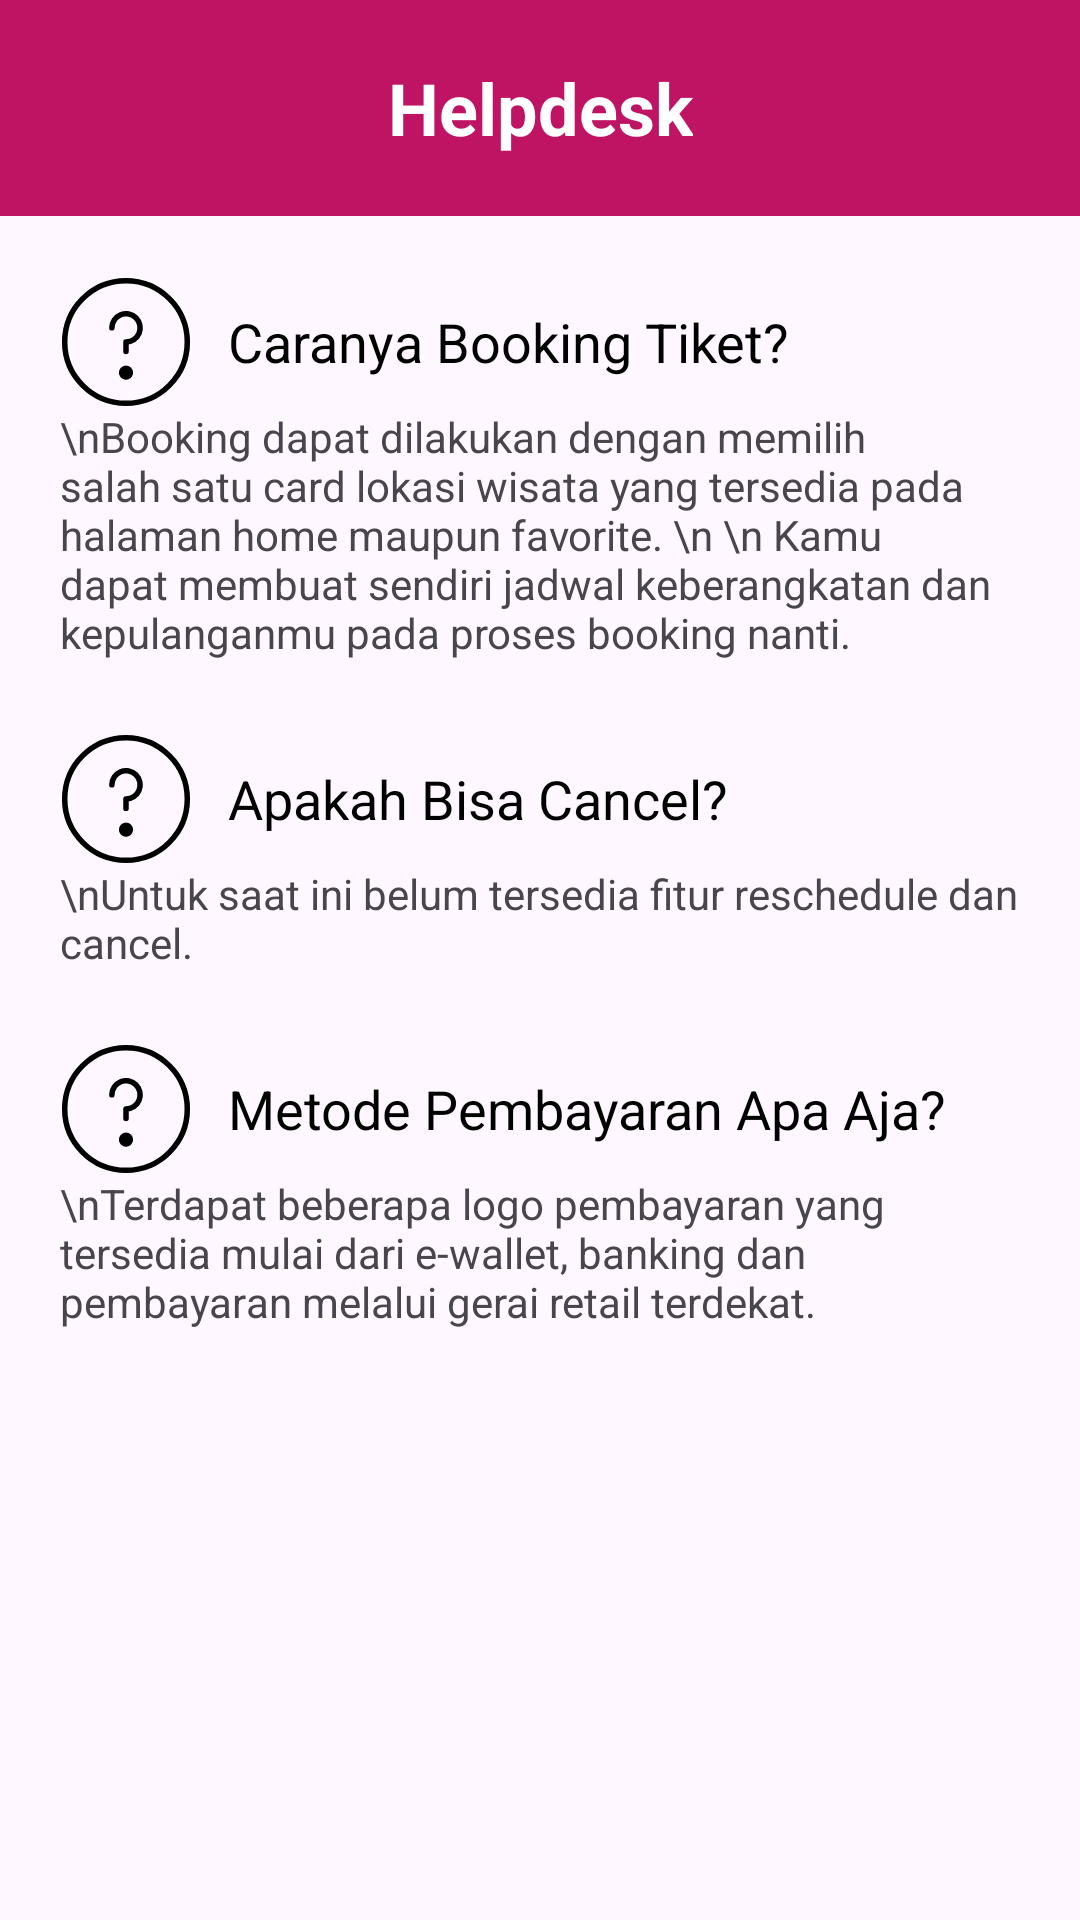

Where icons sit on this 1080×1920 app screen, as (x1, y1, x2, y2):
question: (62, 278, 190, 406), (62, 735, 190, 863), (62, 1045, 190, 1173)
